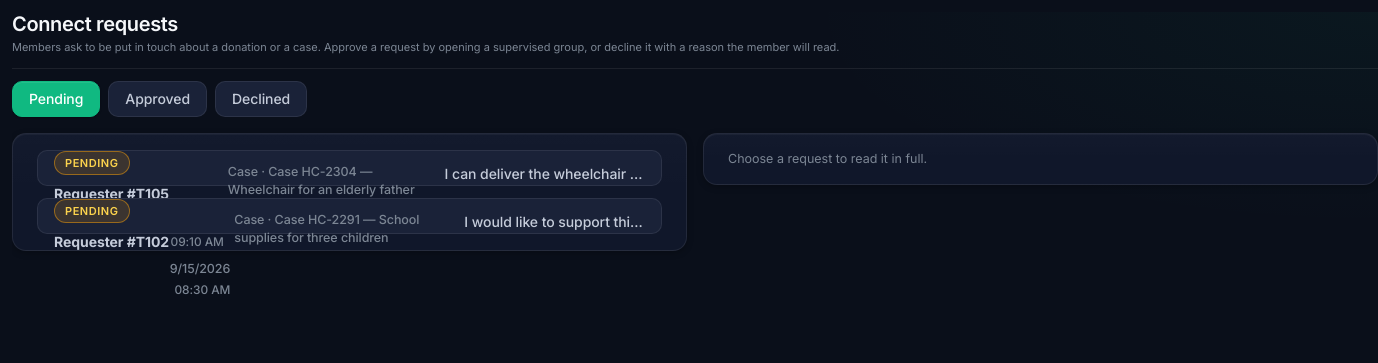
it: ConnectRequestsPage › hides Approve and Decline from staff without messages:edit
Click the button named "I can deliver the wheelchair": (350, 168) [37,150,662,186]
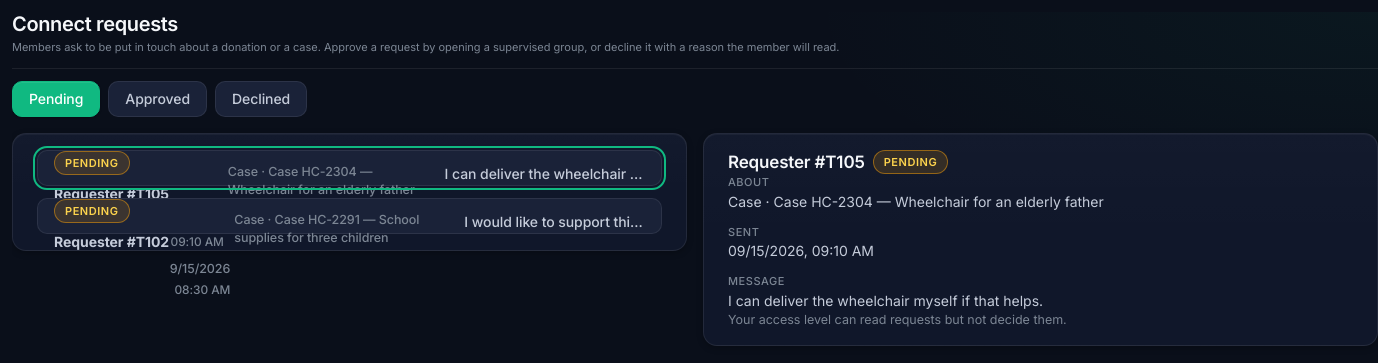
Result: the text "I can deliver the wheelchair myself if that helps." below "Message" is shown at [728,292,1043,308]
